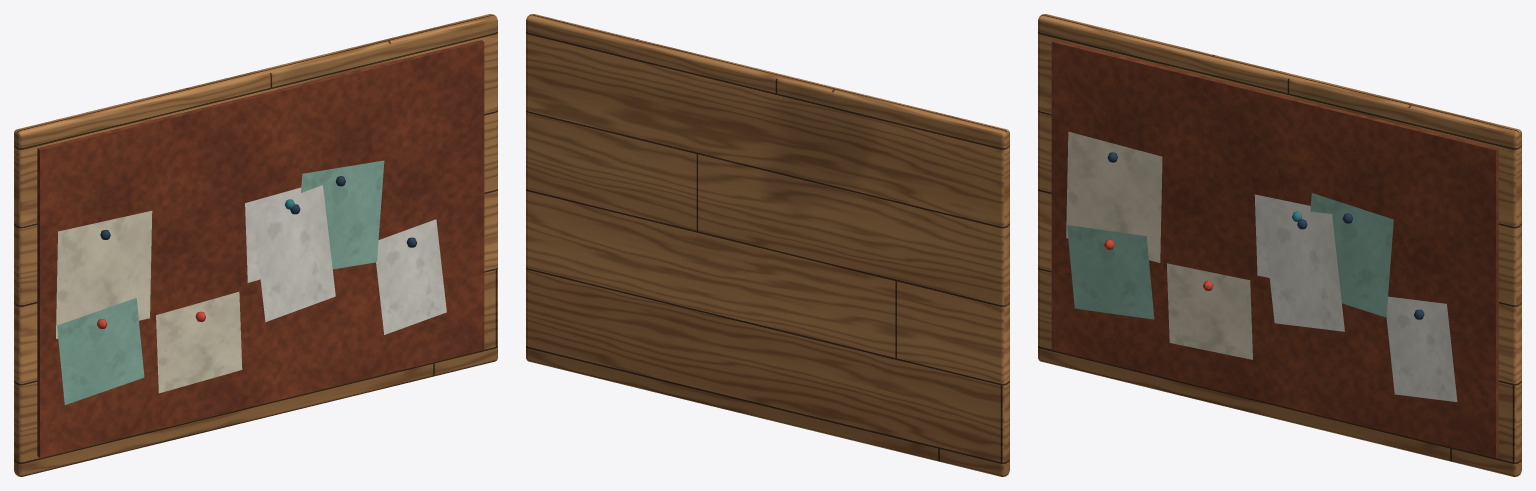
The model's file is NoticeBoard.glb.
3 renders of one model, left to right at view 1: azimuth 30°, elevation 25°; view 2: azimuth 150°, elevation 25°; view 3: azimuth 330°, elevation 25°, orthographic.
Visible parts, largest first — view 1: NoticeBoard_Body; view 2: NoticeBoard_Body; view 3: NoticeBoard_Body.
Part boxes in pixels (left/top/right/bottom): NoticeBoard_Body: left=14, top=14, right=497, bottom=476; NoticeBoard_Body: left=526, top=14, right=1009, bottom=476; NoticeBoard_Body: left=1038, top=14, right=1521, bottom=476.
Bounding box in the file's own units: 0.8 × 0.55 × 0.042.
8 materials, 8 textured.
